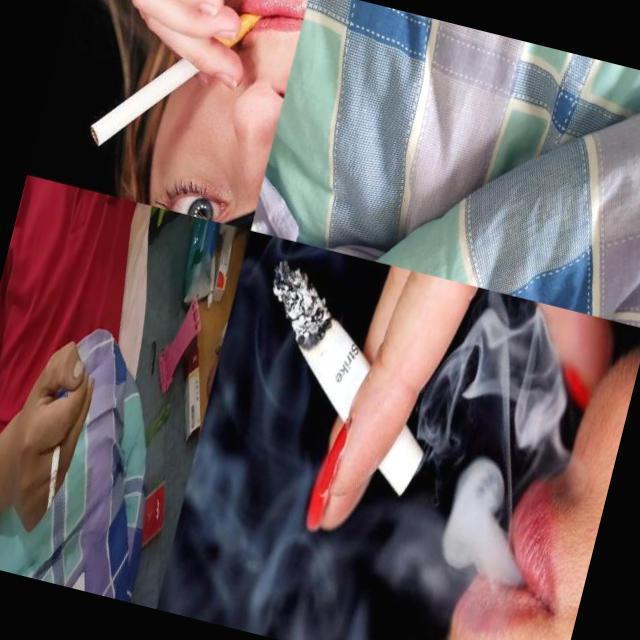cigarette: (228, 258, 462, 500), (86, 0, 268, 177), (36, 427, 70, 512)
